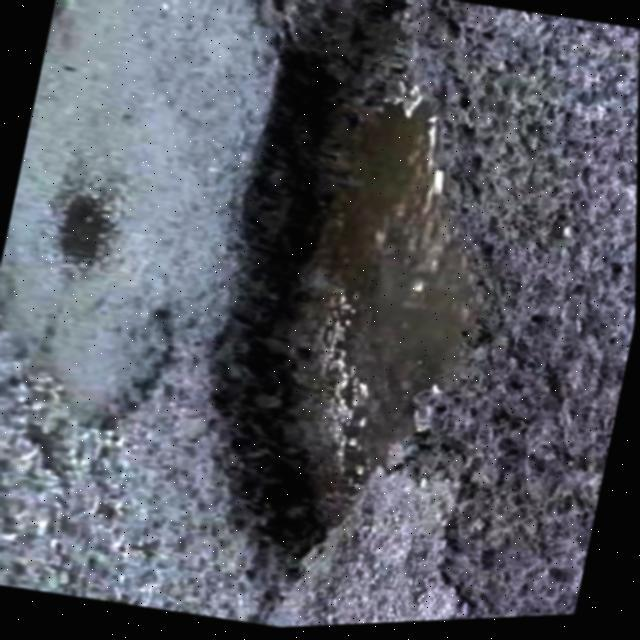pothole: (148, 0, 548, 612)
